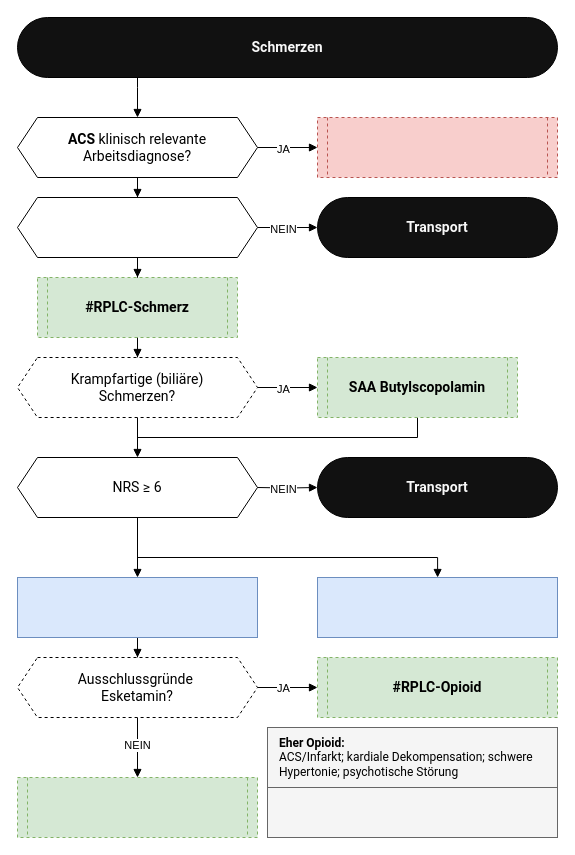
The diagram is 575 pixels wide and 855 high, and some of its shapes have lost their labels. The shapes that lost their labels are listed below. From the top down, each one's centre as x and y in pixels, then its label:
point 437,147: BPR: ACS
point 137,227: NRS ≥ 3
point 137,607: Trauma / immob. Rückenschmerzen / Schrittmacher (außer ACS)
point 437,607: Akutes Abdomen / nicht-traum. Brustschmerz
point 137,807: SAA Esketamin
point 412,812: Eher Esketamin: respiratorisches Risiko, Hypotonietendenz
